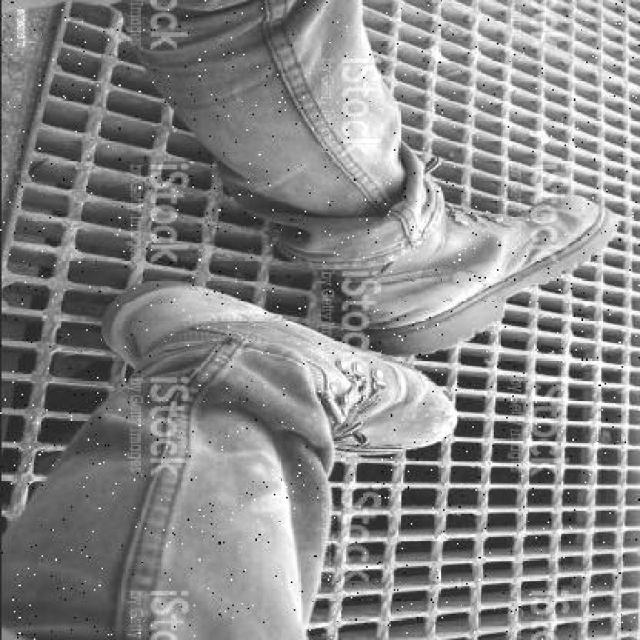shoes: (107, 298, 447, 450), (359, 196, 616, 346)
